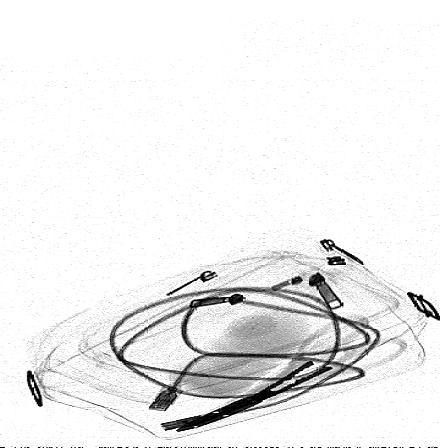Scissors: (174, 311, 410, 436)
